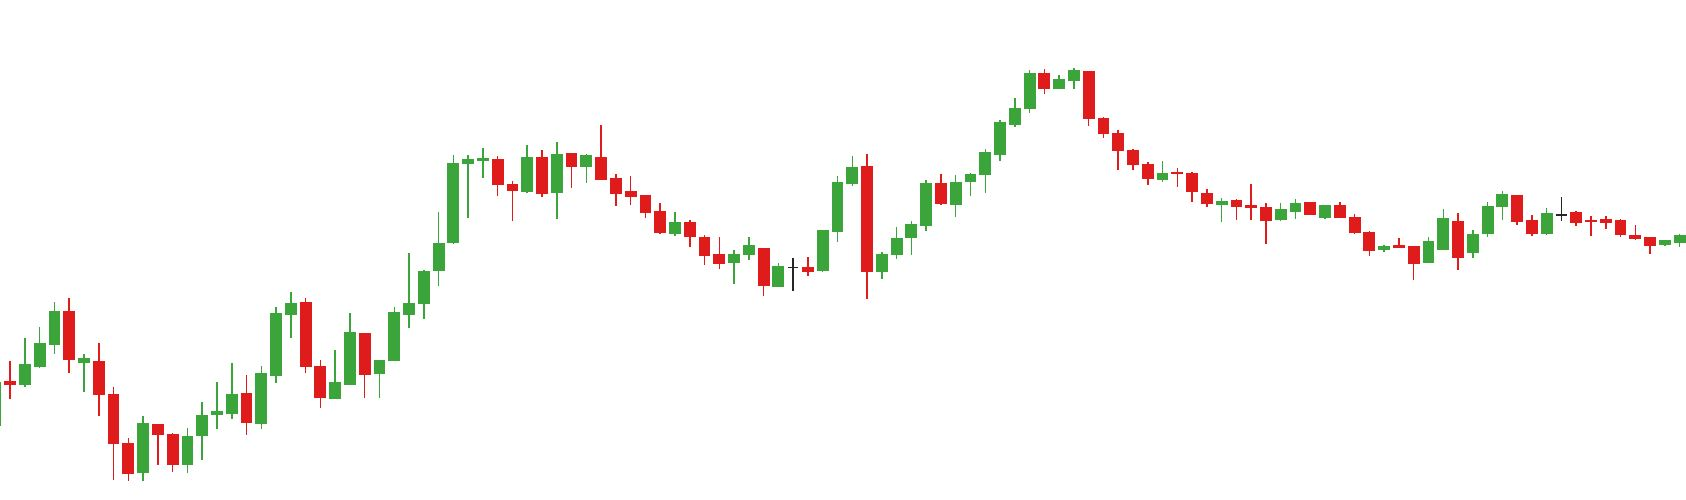buy: (788, 202, 890, 304)
